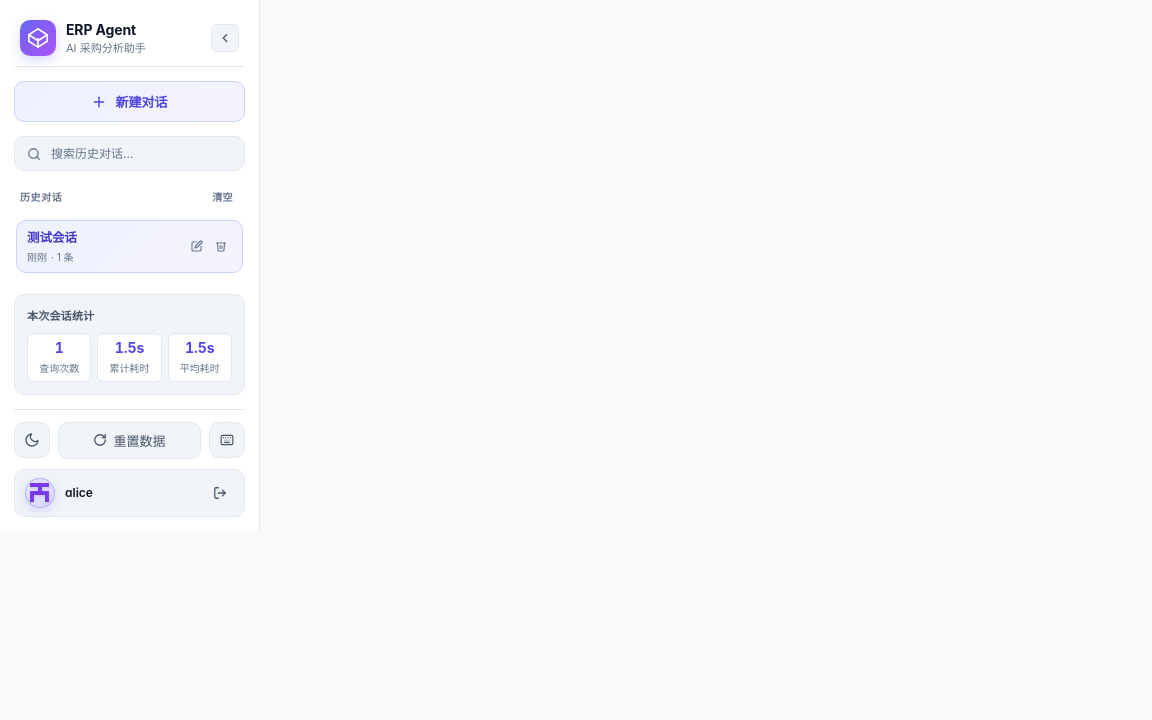
it: Sidebar — delete session › closes dialog on cancel
Click the button named "删除对话" at (221, 246), box x1=210 y1=235 x2=232 y2=257
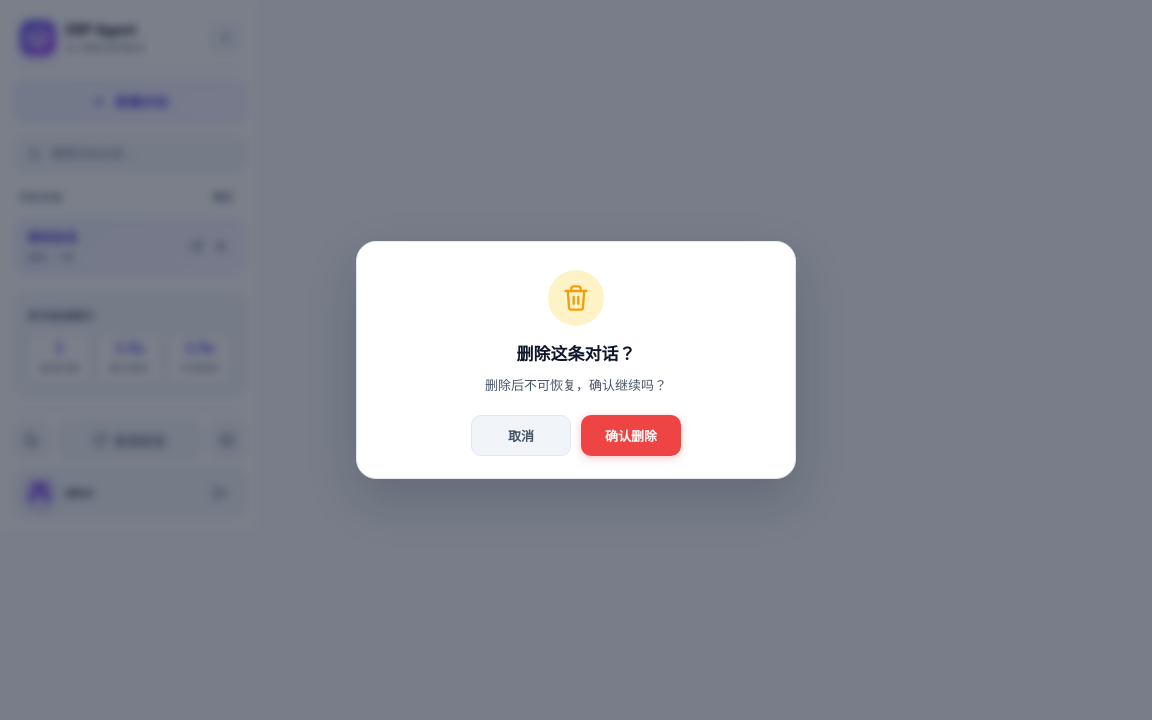
Now the heading "删除这条对话？" is shown, box x1=516 y1=344 x2=636 y2=364
Click the button "取消" at (521, 435), box x1=471 y1=415 x2=571 y2=456
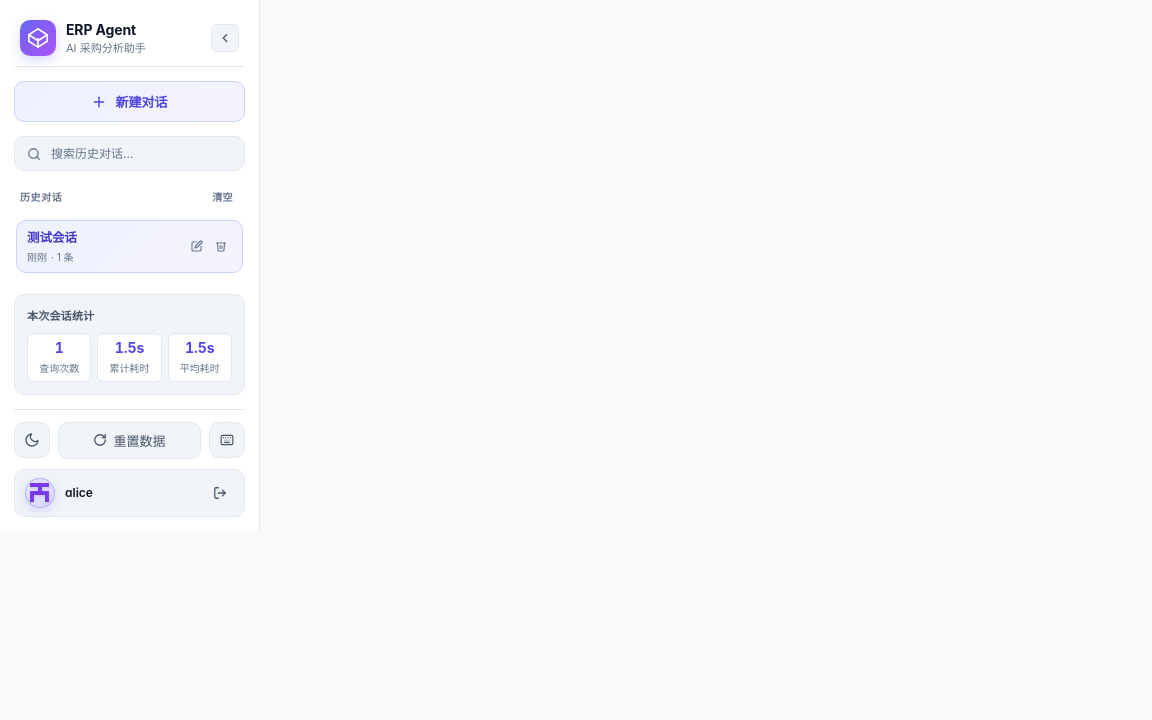
Now the heading "删除这条对话？" is gone
